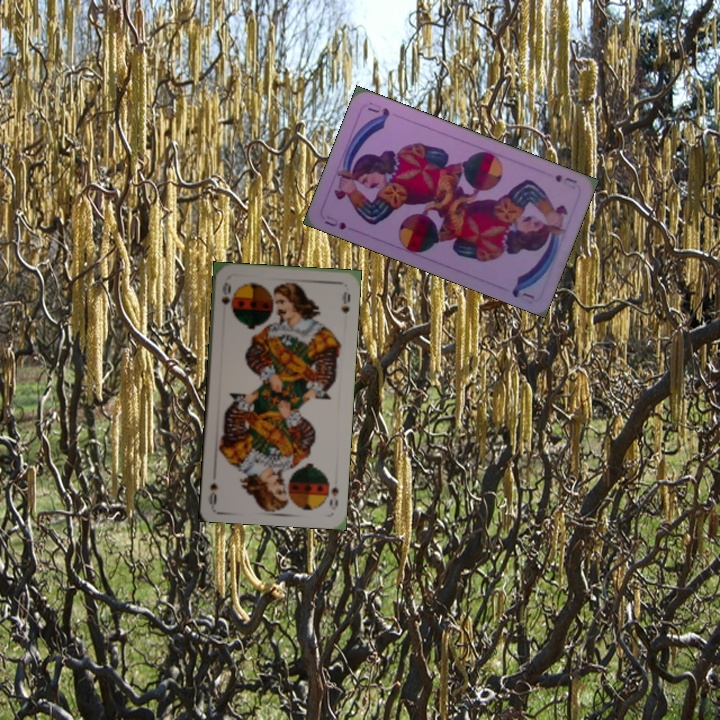SO: (324, 478, 341, 509), (217, 278, 234, 307)
SU: (551, 170, 579, 188), (320, 216, 349, 232)
